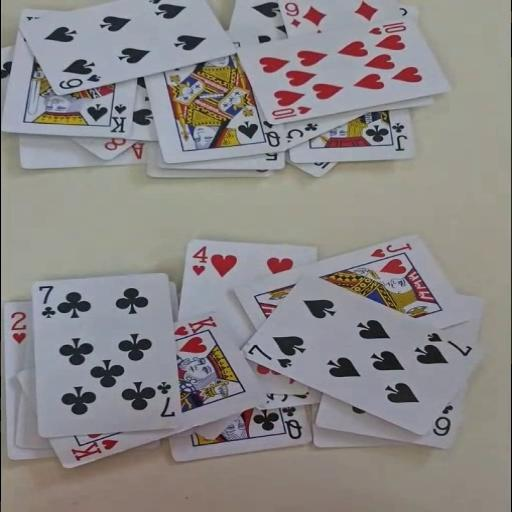10: (269, 104, 313, 120), (366, 20, 408, 36)
2: (8, 310, 28, 344)
4: (189, 244, 209, 277)
5: (283, 121, 319, 144)
6: (430, 402, 455, 436), (55, 72, 102, 90)
7: (424, 330, 473, 358), (245, 342, 294, 369), (154, 380, 176, 418), (36, 283, 58, 319)
8: (102, 136, 128, 151)
9: (281, 0, 302, 28)
J: (367, 241, 414, 259), (390, 121, 408, 151)
K: (67, 436, 120, 462), (170, 314, 219, 337)
